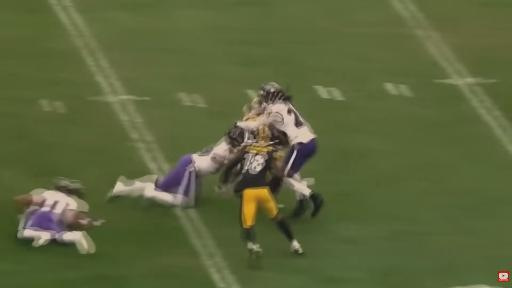Helmet: (53, 177, 83, 198), (259, 83, 285, 103), (251, 126, 275, 146), (226, 124, 245, 147), (243, 98, 263, 116)
Jersey: (21, 191, 78, 231), (266, 102, 316, 145), (235, 146, 274, 192), (192, 139, 231, 175), (40, 191, 78, 219), (245, 125, 289, 146)
Player: (237, 83, 323, 217), (109, 126, 245, 207), (220, 144, 303, 254), (15, 178, 103, 253), (245, 125, 289, 154)
